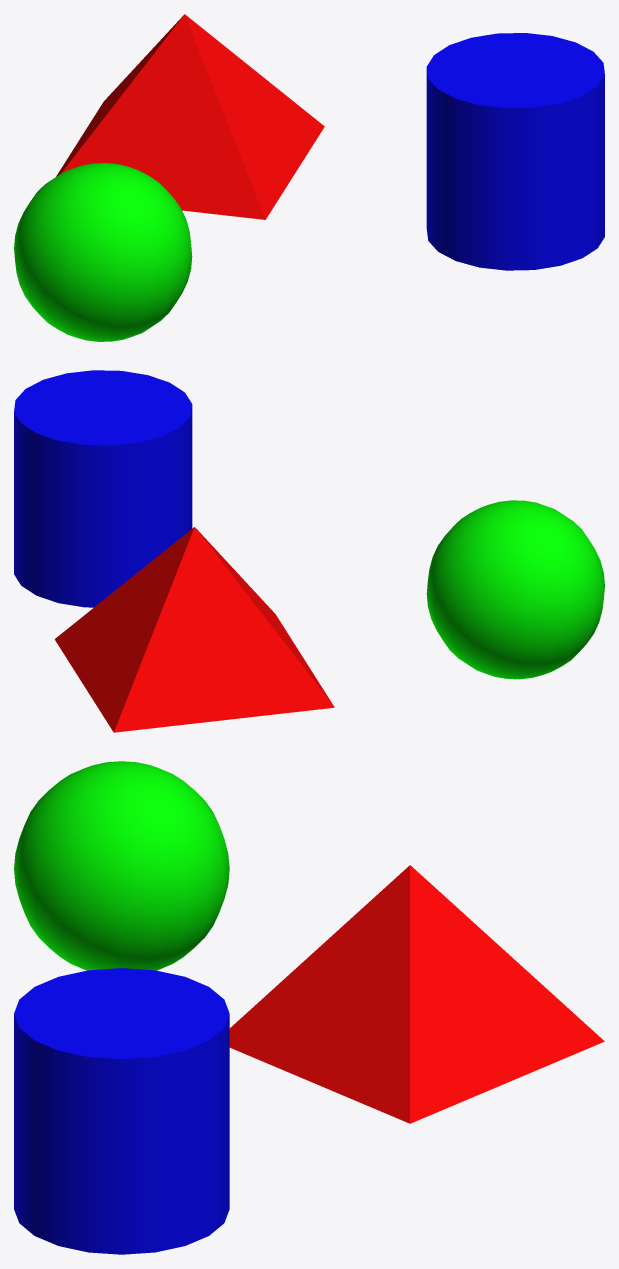
File: redgreenblue_pn.obj
3 views of the same model, one above another, from view 1: azimuth 30°, elevation 25°; view 2: azimuth 150°, elevation 25°; view 3: azimuth 270°, elevation 25° (orthographic). The views are drawn at different scales.
Visible parts, largest first — view 1: pCylinder1, pPyramid1, pSphere1; view 2: pCylinder1, pPyramid1, pSphere1; view 3: pCylinder1, pPyramid1, pSphere1.
Boxes of the visible parts, x1,y1,x2,y2 form: pCylinder1: [426, 33, 604, 270]; pPyramid1: [56, 14, 324, 219]; pSphere1: [14, 163, 192, 341]; pCylinder1: [14, 370, 192, 607]; pPyramid1: [54, 527, 334, 732]; pSphere1: [426, 500, 604, 679]; pCylinder1: [14, 968, 229, 1254]; pPyramid1: [229, 865, 604, 1123]; pSphere1: [14, 761, 229, 970].
Size of the model in its own units: 7.32 by 2.25 by 5.48.
